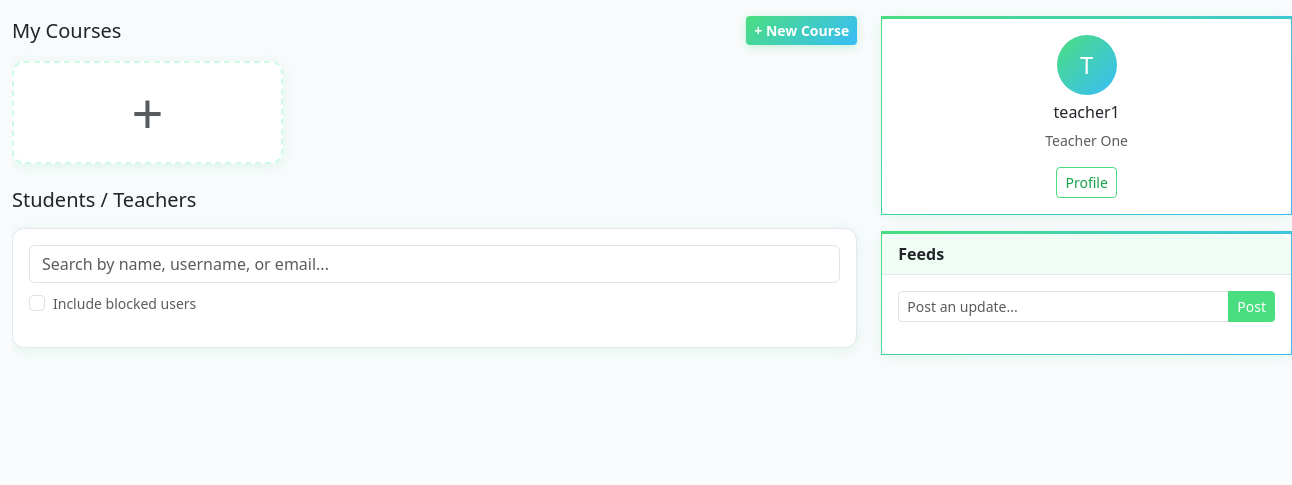
Test: TeacherHome › shows block button for search results
Type "alice" into the field with placeholder "Search by name, username, or email..." at (435, 264), box [29,245,840,283]
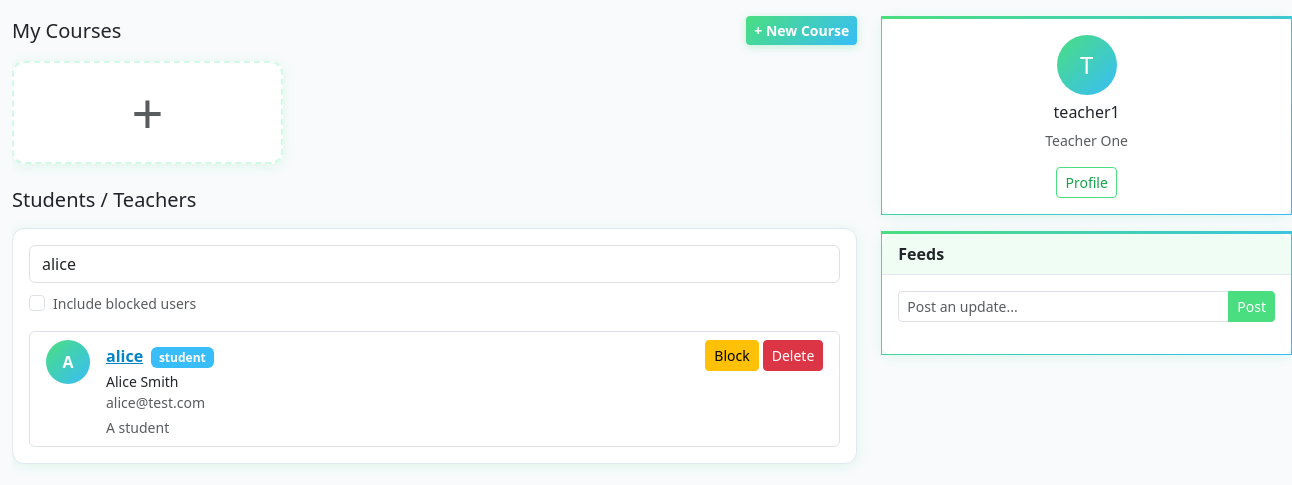
Now the button "Block" is shown, box [705,340,759,371]
